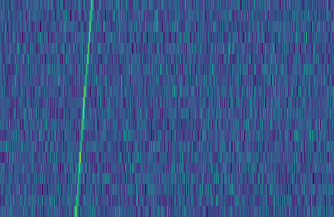signal: (69, 0, 95, 217)
